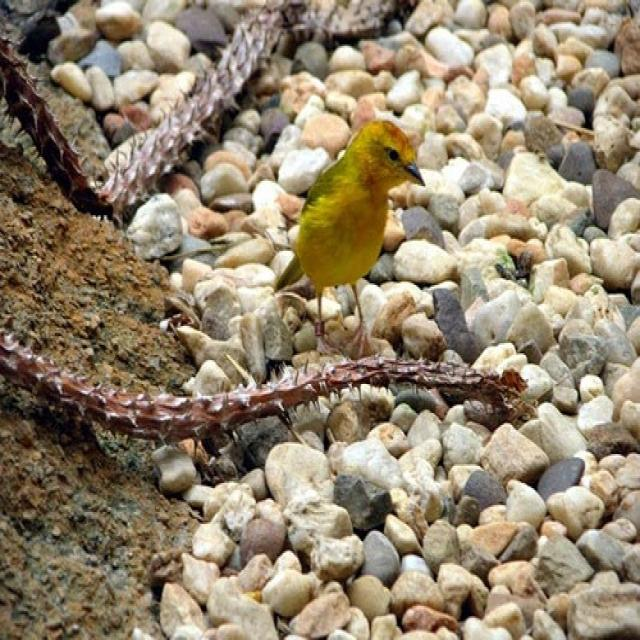bird: (272, 119, 426, 355)
